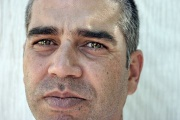male: (18, 16, 115, 120)
